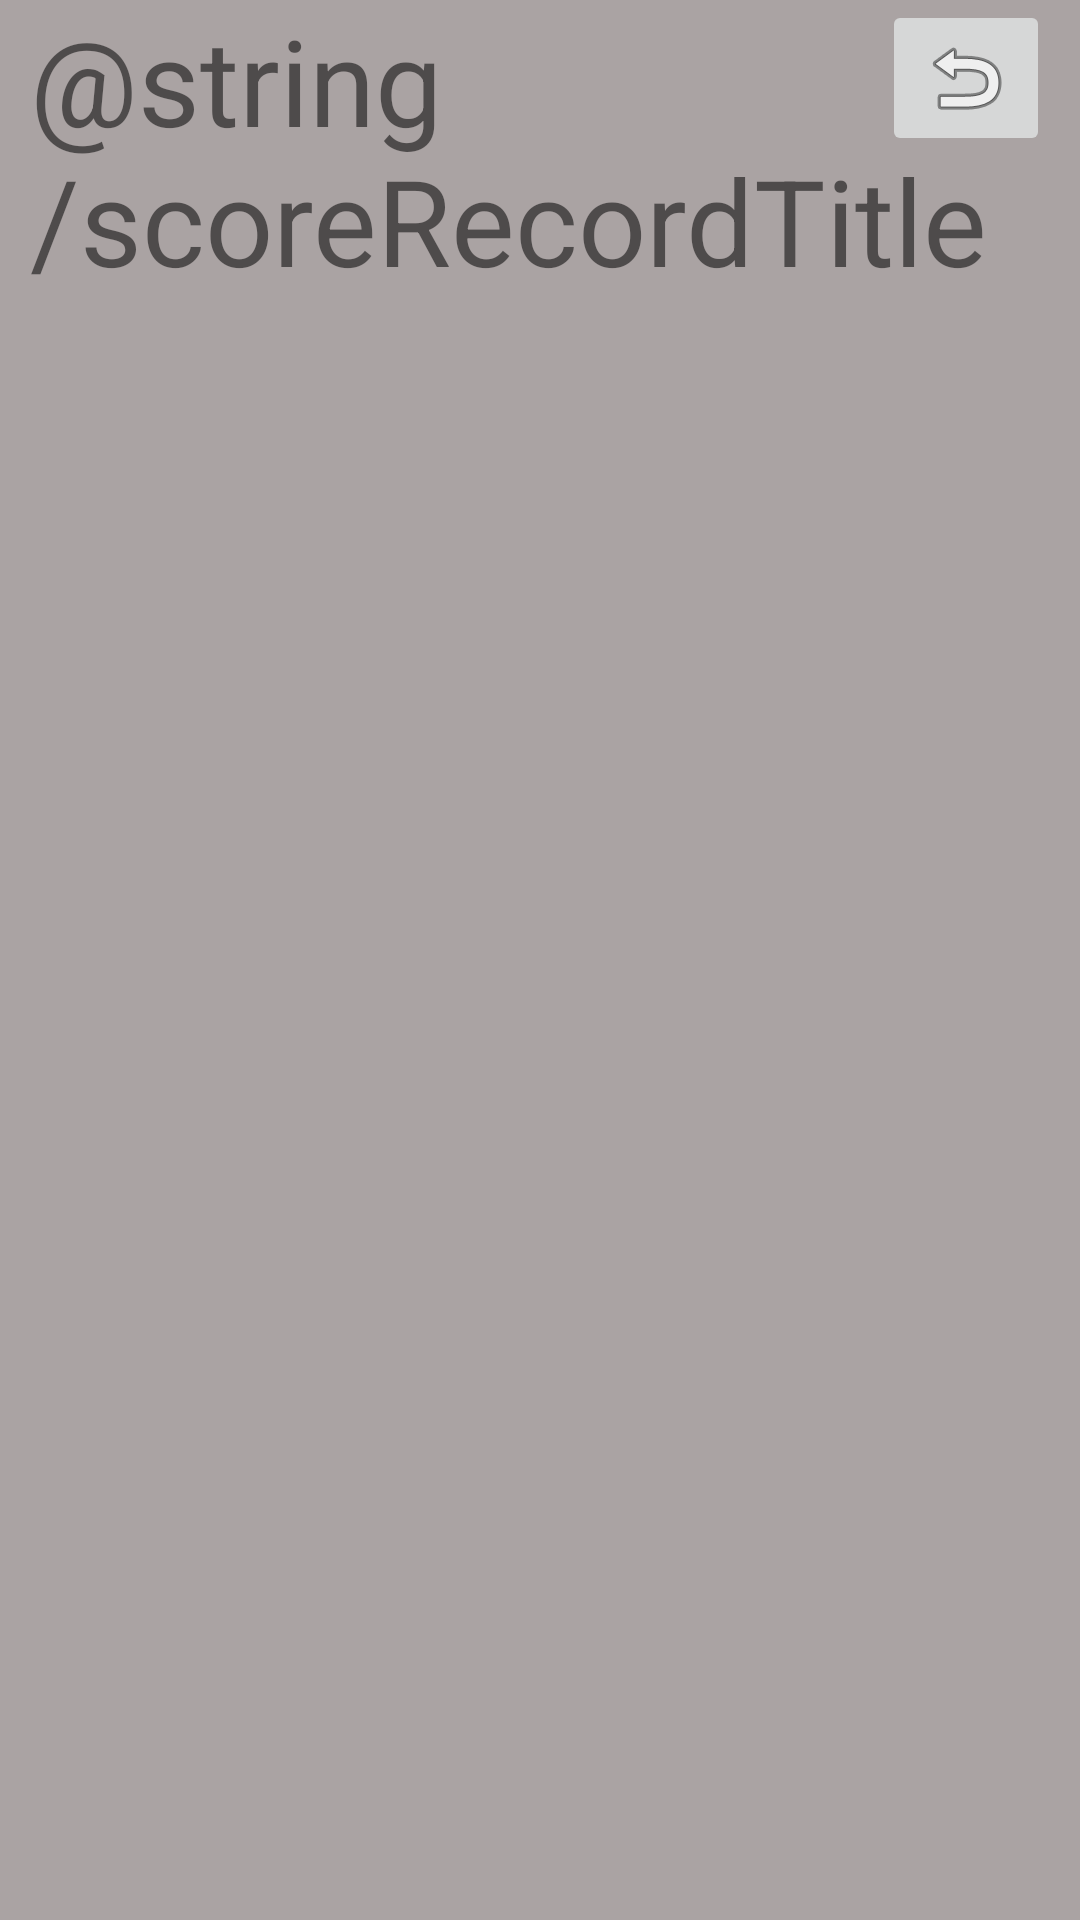

Icon click points for this 1080px x 1920px phone screenshot, format point (x, y):
revert: point (966, 78)
